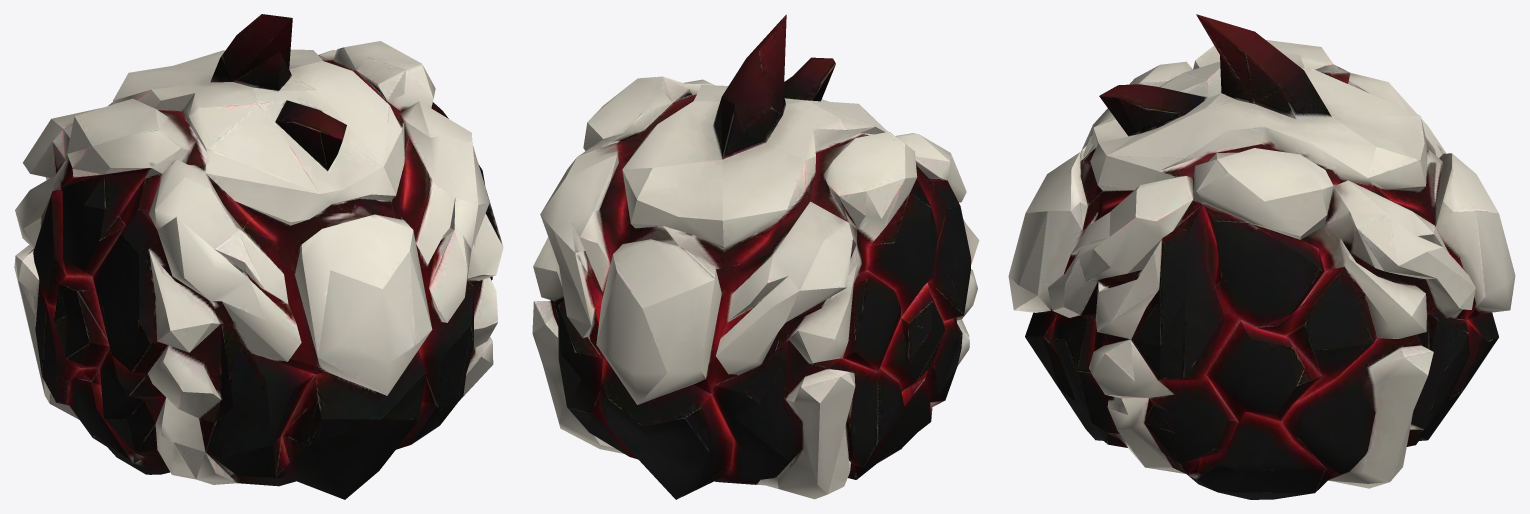
File: serpent.glb
3 views of the same model, side by side, from view 1: azimuth 30°, elevation 25°; view 2: azimuth 150°, elevation 25°; view 3: azimuth 270°, elevation 25° (orthographic). The views are drawn at different scales.
Parts seen in each view (by area): view 1: mesh_node; view 2: mesh_node; view 3: mesh_node.
Boxes of the visible parts, left/top/right/bottom form: mesh_node: left=14, top=14, right=503, bottom=499; mesh_node: left=532, top=14, right=979, bottom=499; mesh_node: left=1008, top=14, right=1515, bottom=499.
Size of the model in its own units: 1.6 by 1.84 by 1.9.
Materials: 1 (1 with a texture image).
